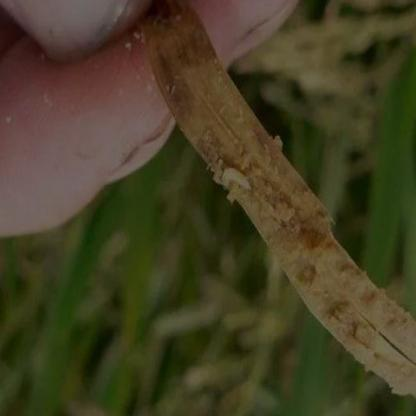whorl-maggot: (222, 162, 254, 202)
